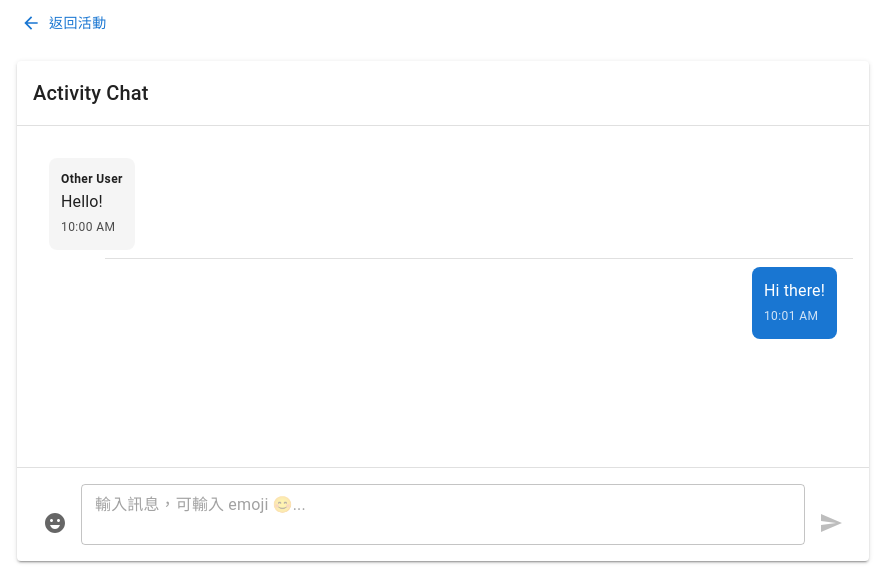
Test: ChatPage › should send and receive messages in real-time
expect the text "Hello!" is shown: met, box [61,192,103,211]
Type and send a message
In the text box with placeholder "輸入訊息，可輸入 emoji 😊...": [443, 514] box [95,492,791,536], type "New message"
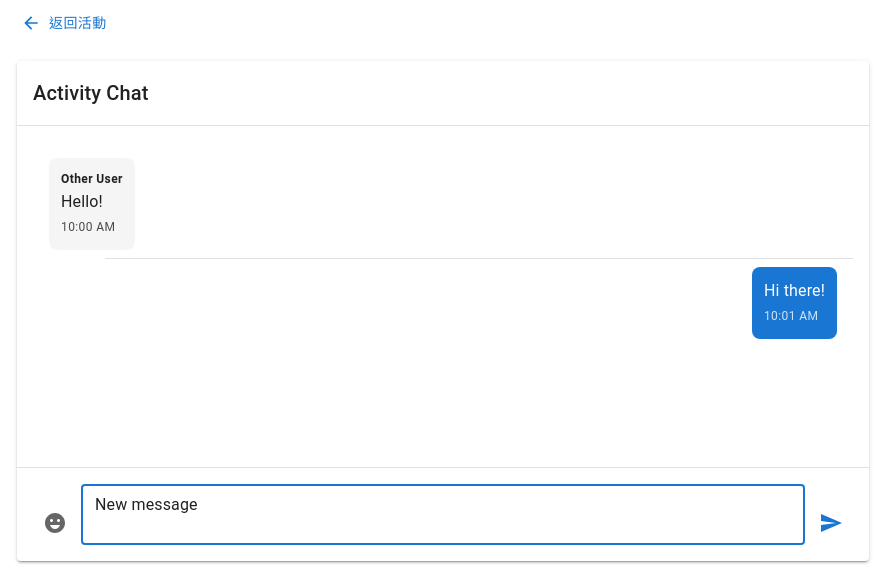
Click the button with test id "SendIcon": [831, 523] box [809,501,853,545]
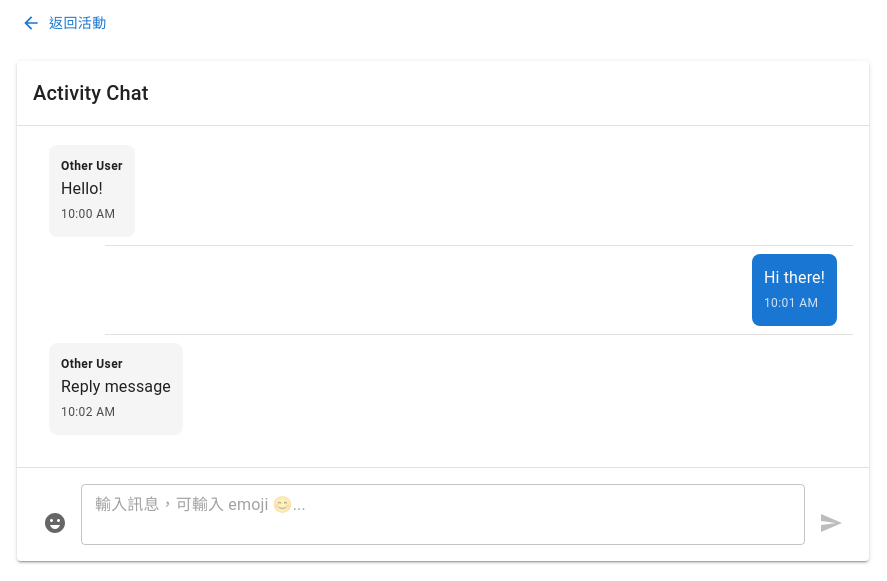
expect the text "Reply message" is shown: met, box [61,375,171,399]
